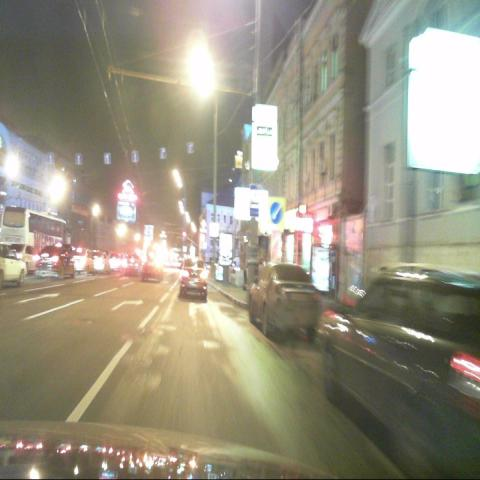7_2: (249, 183, 260, 217)
